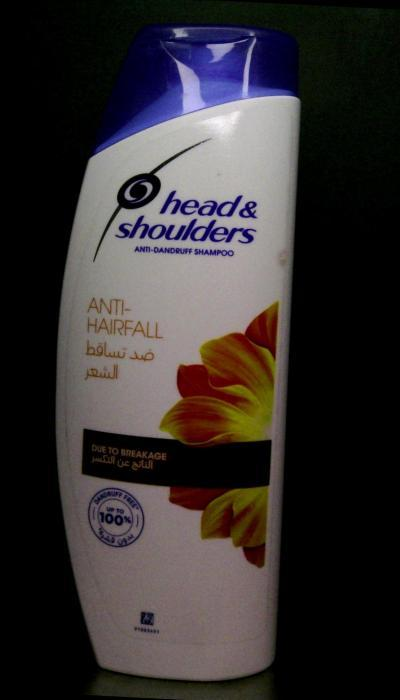tear_unacc: (266, 233, 293, 280)
